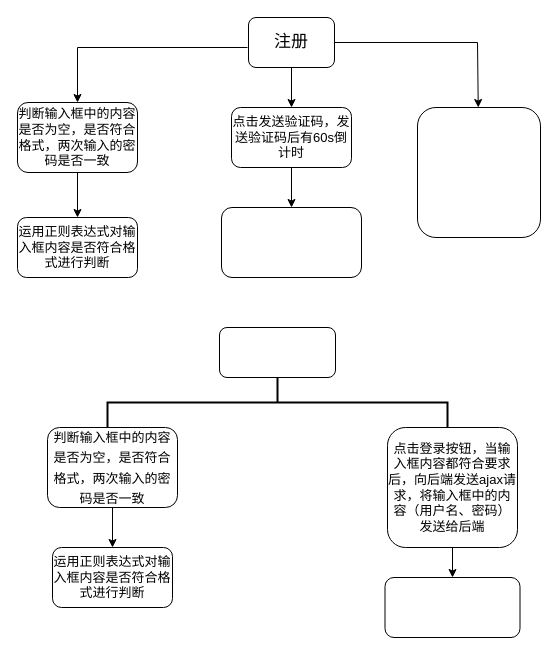
Some shapes in this 558 by 655 pixel diagram are drawn without their labels. The shapes that lost their labels are listed below. From the top down, each one's box as (x1, y1, x2, y2) in pixels, then its label:
(416, 106, 540, 238): 点击注册按钮，当输入框内容都符合要求后，向后端发送ajax请求，将输入框中的内容（用户名、密码、邮箱、验证码）发送给后端
(220, 206, 362, 278): 向后端发送ajax请求，将输入的邮箱地址发给后端，如果成功就进行60s倒计时
(218, 326, 336, 378): 登录
(384, 576, 520, 638): 登录成功后，将token保存到本地，并且自动跳转到首页
